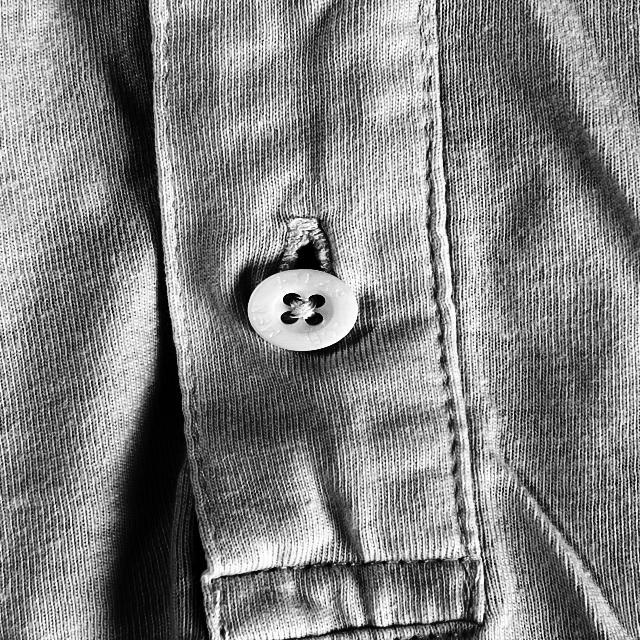Button_hike: (237, 215, 364, 353)
